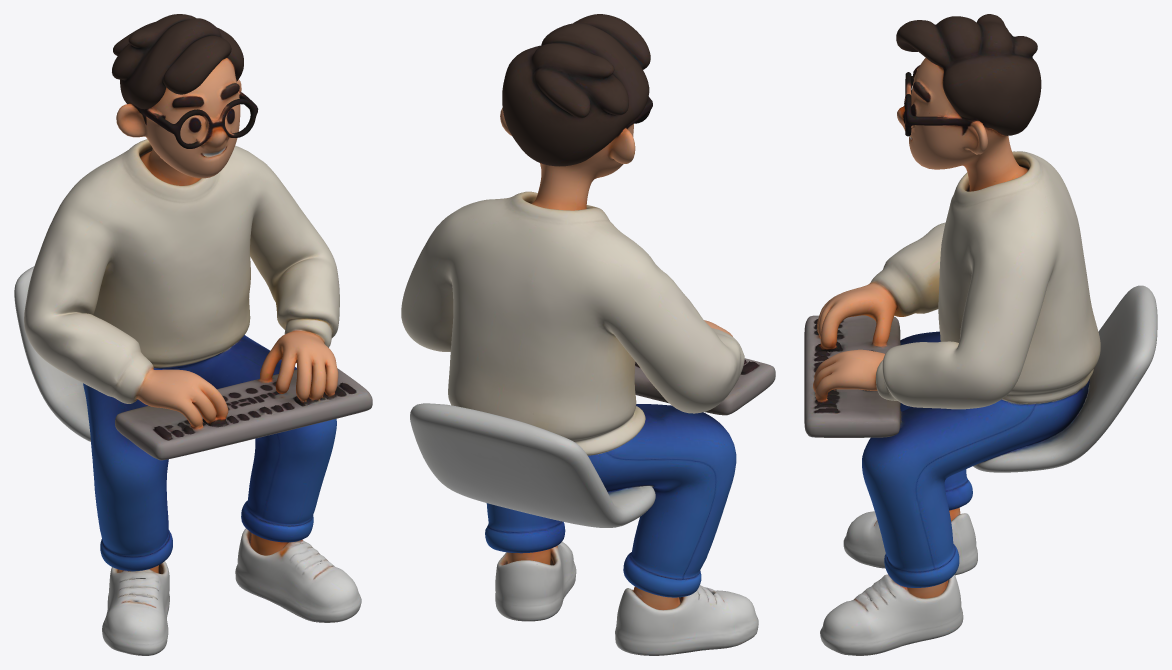
File: character.glb
3 renders of one model, left to right at view 1: azimuth 30°, elevation 25°; view 2: azimuth 150°, elevation 25°; view 3: azimuth 270°, elevation 25°, orthographic. The views are drawn at different scales.
Visible parts, largest first — view 1: tripo_node_2899f885; view 2: tripo_node_2899f885; view 3: tripo_node_2899f885.
Boxes of the visible parts, bbox=[...] form: tripo_node_2899f885: bbox=[14, 14, 372, 655]; tripo_node_2899f885: bbox=[401, 14, 775, 655]; tripo_node_2899f885: bbox=[804, 14, 1157, 655].
Bounding box in the file's own units: 0.8818 × 1.6 × 0.8798.
Materials: 1 (1 with a texture image).
